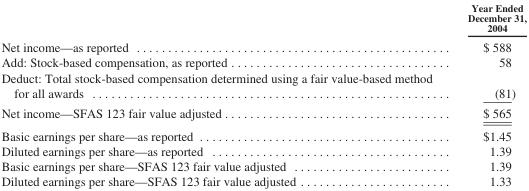table: (0, 1, 525, 187)
table column: (0, 1, 449, 187), (449, 1, 525, 187)
table column header: (0, 1, 525, 36)
table row: (0, 1, 525, 36), (0, 69, 525, 102), (0, 102, 525, 123), (0, 123, 525, 142), (0, 36, 525, 54), (0, 142, 525, 158), (0, 54, 525, 69), (0, 158, 525, 173), (0, 173, 525, 187)
